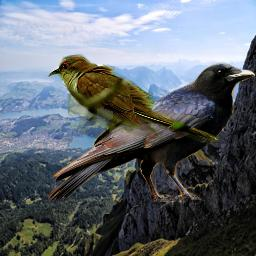Crow: (47, 61, 255, 202)
Cuckoo: (48, 54, 220, 143)
